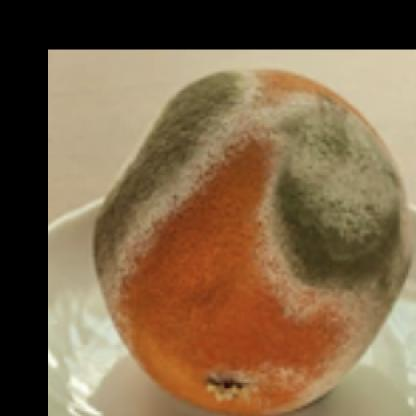rotten: (93, 70, 412, 416)
